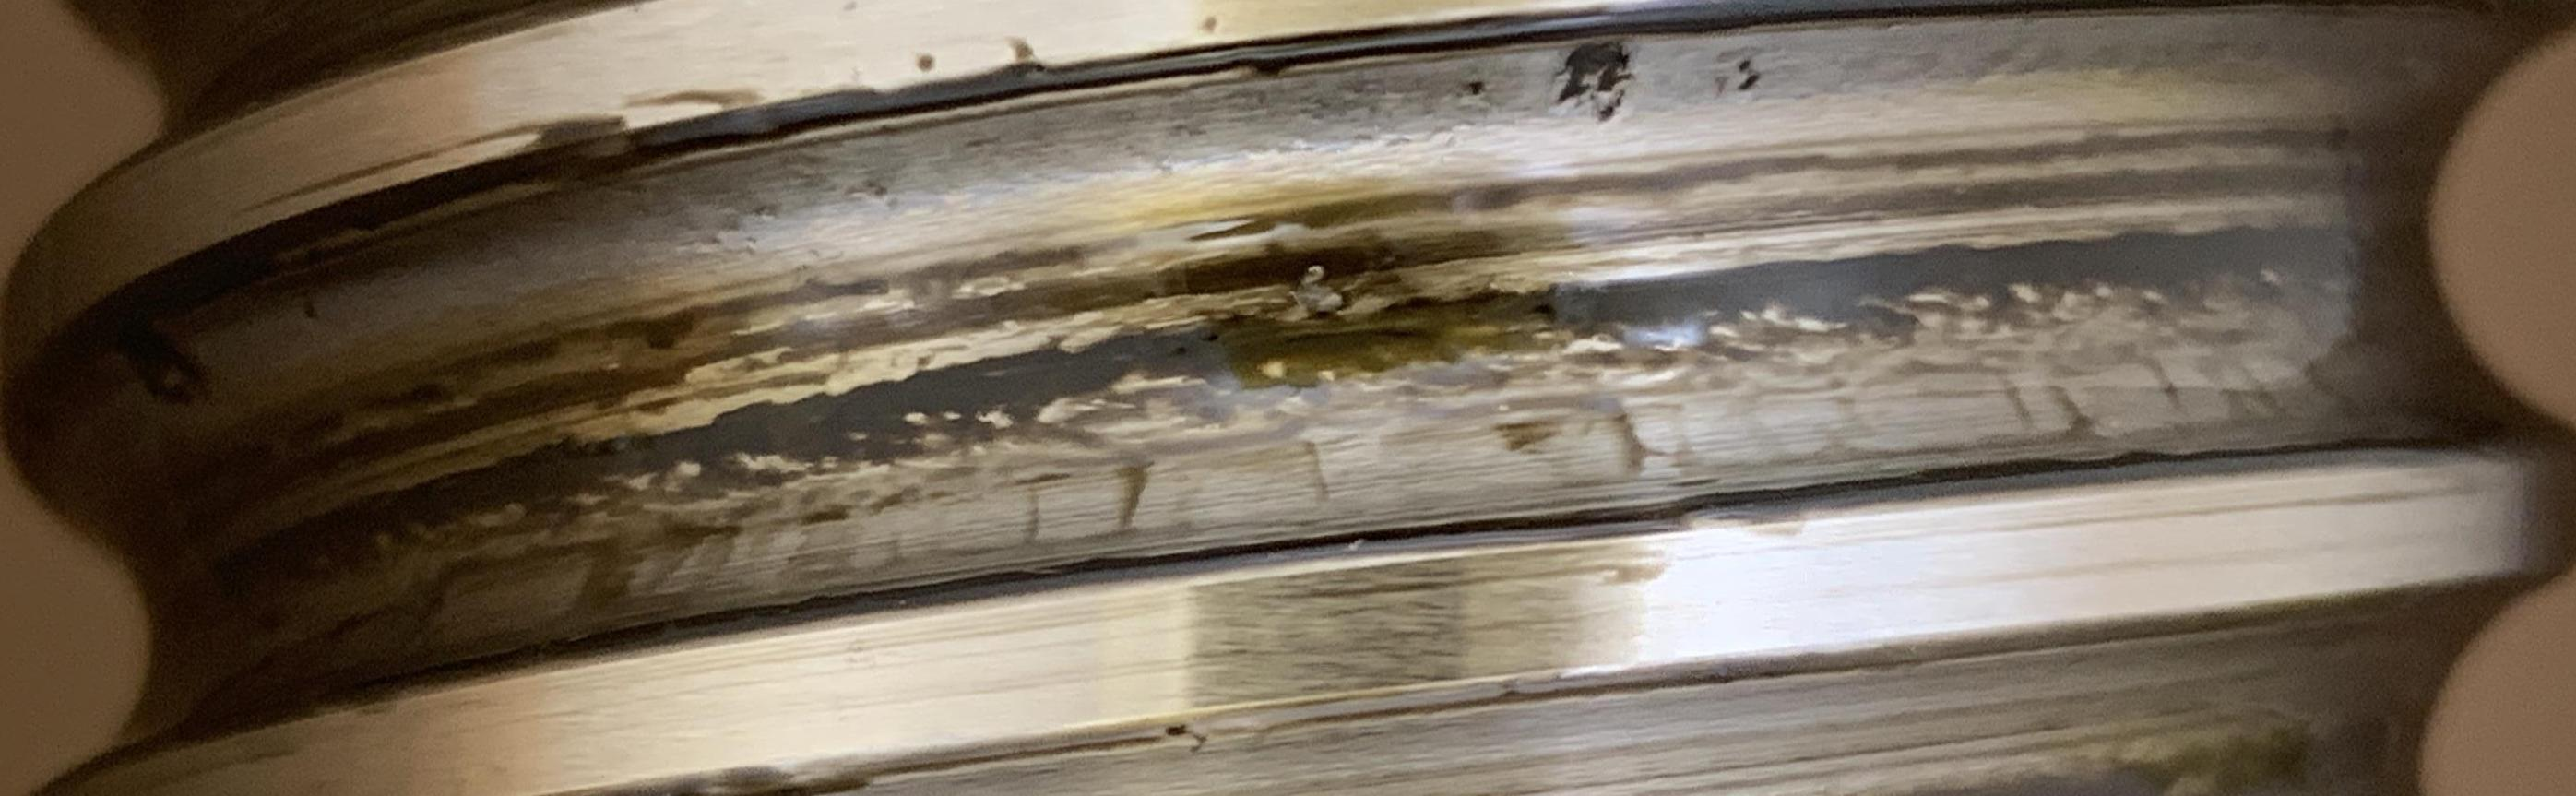pitting: (112, 322, 204, 403), (1554, 39, 1633, 118), (299, 296, 317, 317), (1736, 72, 1759, 89), (1467, 81, 1482, 95), (1740, 59, 1750, 71)
